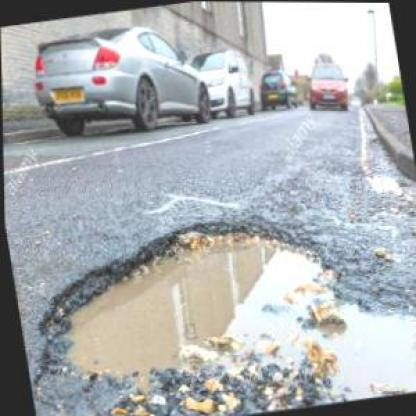pothole: (18, 195, 359, 414), (287, 275, 415, 409), (365, 166, 399, 196)
